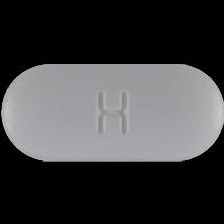31722-731: (0, 0, 224, 224)
